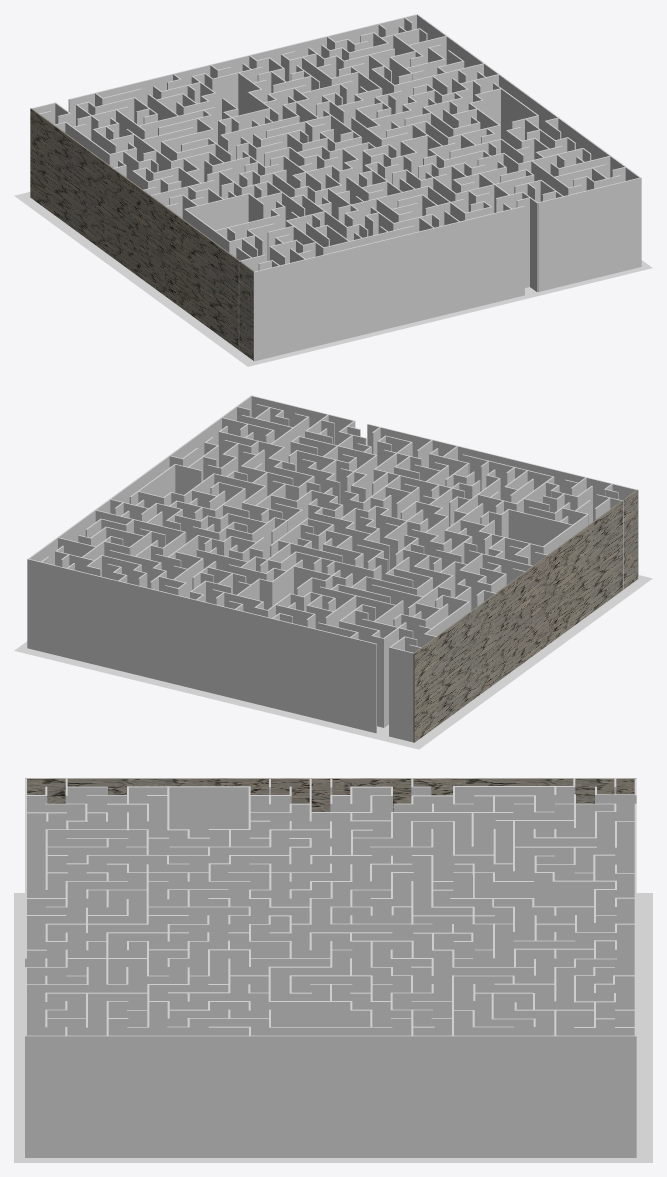
The model's file is Laberinto.fbx.
3 views of the same model, one above another, from view 1: azimuth 30°, elevation 25°; view 2: azimuth 150°, elevation 25°; view 3: azimuth 270°, elevation 25° (orthographic). The views are drawn at different scales.
Parts seen in each view (by area): view 1: Pared izquierda/salida, Limite superior, Plane, Pared derecha/entrada, Limite inferior, Cube.265, Cube.031, Cube.063, Cube.232, Cube.366, Cube.147, Cube.296 (+20 smaller); view 2: Pared derecha/entrada, Limite superior, Plane, Pared izquierda/salida, Limite inferior, Cube.271, Cube.257, Cube.147, Cube.063, Cube.232, Cube.366, Cube.004 (+18 smaller); view 3: Limite inferior, Plane, Limite superior, Cube.268, Cube.119, Cube.317, Cube.303, Cube.356, Cube.016, Cube.287, Cube.014, Cube.111 (+94 smaller).
Part boxes in pixels (x1=…): Pared izquierda/salida: x1=253, y1=177, x2=640, y2=361; Limite superior: x1=30, y1=108, x2=254, y2=360; Plane: x1=14, y1=192, x2=652, y2=366; Pared derecha/entrada: x1=32, y1=14, x2=416, y2=126; Limite inferior: x1=417, y1=14, x2=641, y2=266; Cube.265: x1=186, y1=193, x2=248, y2=230; Cube.031: x1=212, y1=66, x2=262, y2=143; Cube.063: x1=393, y1=63, x2=483, y2=111; Cube.232: x1=338, y1=186, x2=427, y2=226; Cube.366: x1=493, y1=83, x2=538, y2=141; Cube.147: x1=221, y1=115, x2=299, y2=160; Cube.296: x1=522, y1=192, x2=538, y2=292; Pared derecha/entrada: x1=28, y1=558, x2=413, y2=742; Limite superior: x1=413, y1=489, x2=637, y2=742; Plane: x1=14, y1=575, x2=652, y2=749; Pared izquierda/salida: x1=251, y1=395, x2=638, y2=578; Limite inferior: x1=27, y1=395, x2=251, y2=648; Cube.271: x1=508, y1=509, x2=572, y2=546; Cube.257: x1=462, y1=454, x2=552, y2=500; Cube.147: x1=295, y1=551, x2=373, y2=585; Cube.063: x1=95, y1=510, x2=186, y2=545; Cube.232: x1=374, y1=469, x2=464, y2=502; Cube.366: x1=129, y1=464, x2=175, y2=504; Cube.004: x1=371, y1=635, x2=384, y2=727; Limite inferior: x1=25, y1=1035, x2=636, y2=1157; Plane: x1=14, y1=893, x2=652, y2=1162; Limite superior: x1=25, y1=778, x2=636, y2=811; Cube.268: x1=127, y1=786, x2=250, y2=837; Cube.119: x1=392, y1=812, x2=513, y2=854; Cube.317: x1=46, y1=992, x2=147, y2=1035; Cube.303: x1=67, y1=958, x2=148, y2=992; Cube.356: x1=269, y1=1001, x2=351, y2=1026; Cube.016: x1=495, y1=820, x2=575, y2=880; Cube.287: x1=27, y1=812, x2=66, y2=897; Cube.014: x1=515, y1=846, x2=596, y2=905; Cube.111: x1=453, y1=786, x2=575, y2=811.
Size of the model in its own units: 6400 by 1365 by 6400.
420 materials, 1 textured.
